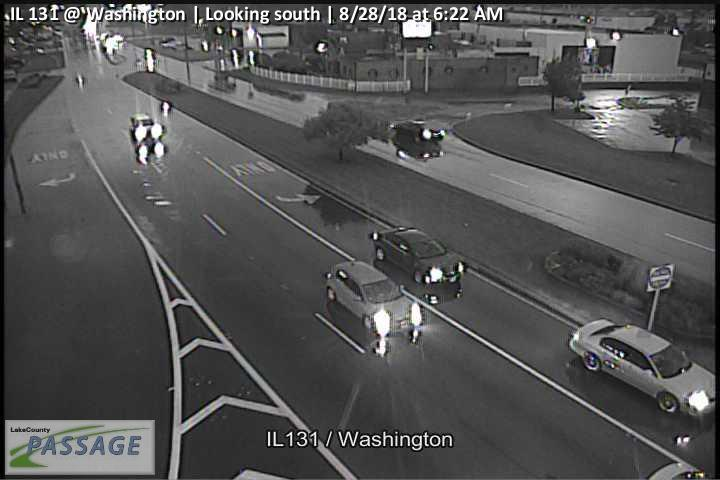Sedan: (567, 317, 719, 417), (324, 260, 423, 357), (367, 223, 466, 285), (388, 116, 446, 140)
